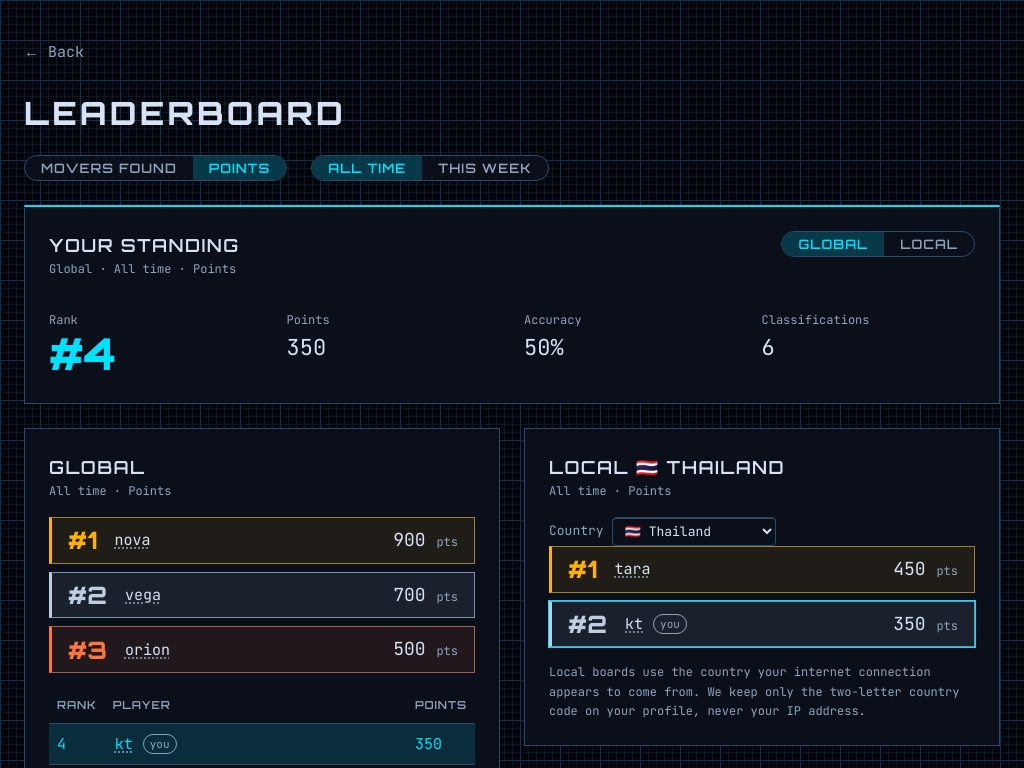
it: LeaderboardScreen player dialog › explains a 503
Click the button with aria-label "View stats for nova". click: (132,540)
box: [112,528,152,552]
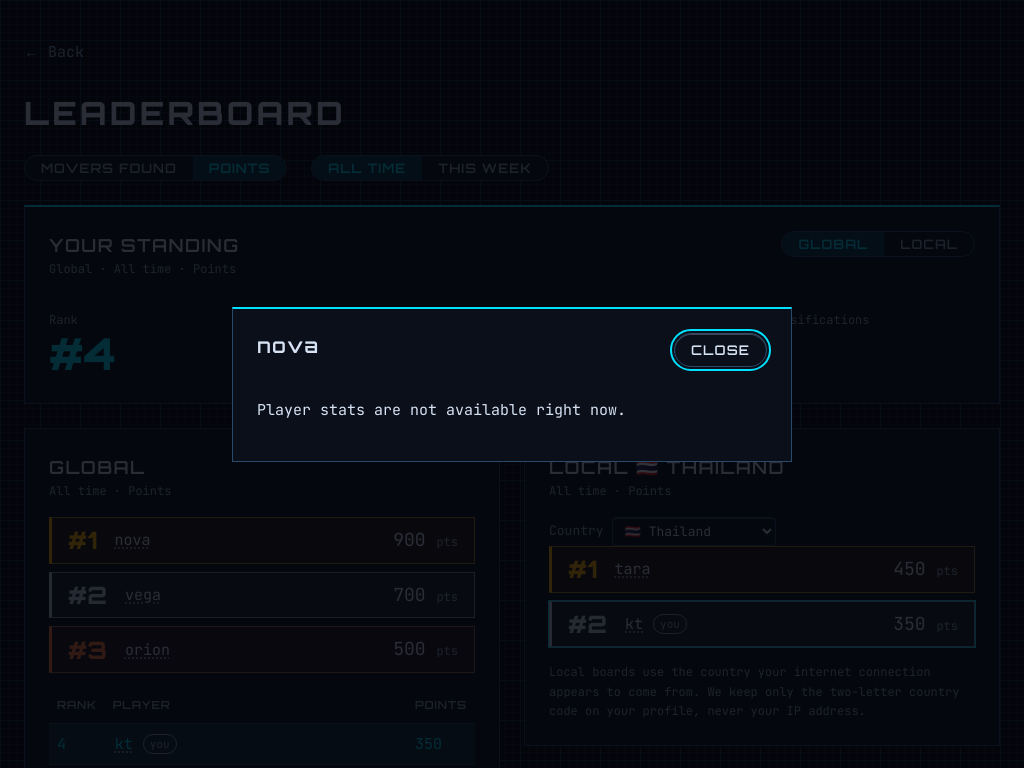
Now the message reads "Player stats are not available right now.", box [257,400,626,420]
